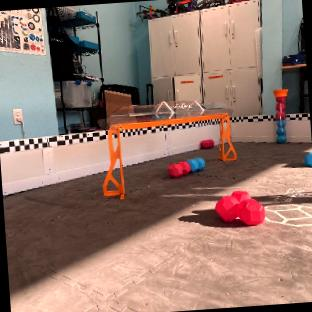Goal: (102, 100, 235, 197)
V5_BLUE: (187, 157, 204, 171), (304, 151, 312, 166)
V5_RED: (215, 191, 264, 225), (273, 88, 287, 141), (168, 161, 190, 177), (200, 138, 214, 148)
